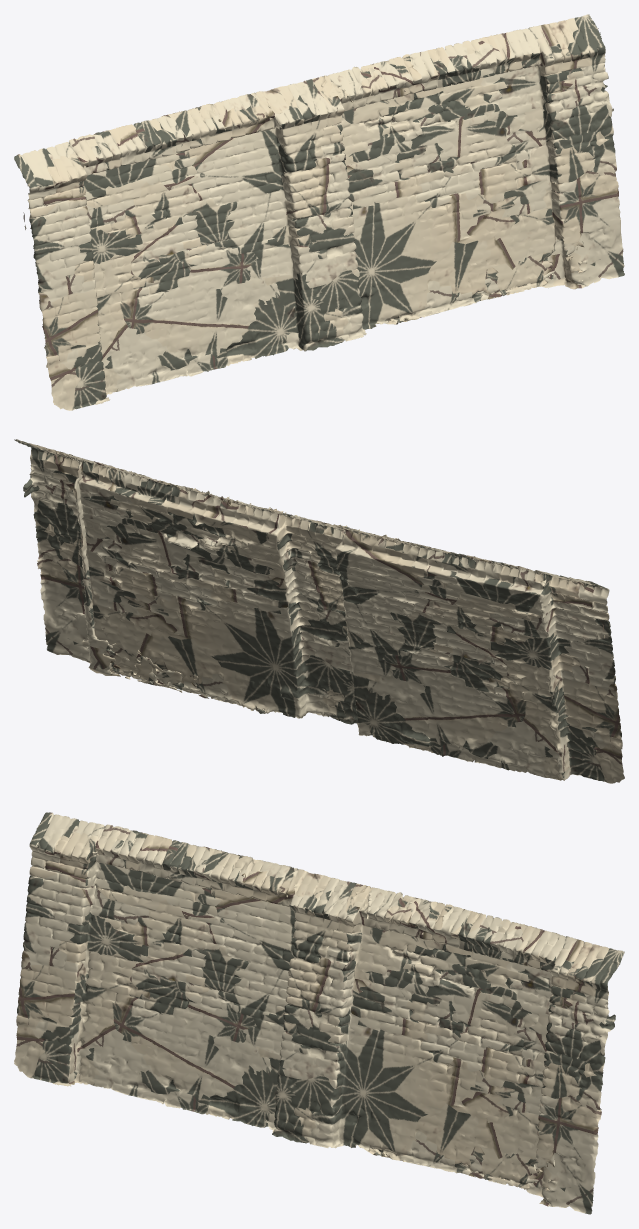
The model's file is parete.fbx.
3 views of the same model, one above another, from view 1: azimuth 30°, elevation 25°; view 2: azimuth 150°, elevation 25°; view 3: azimuth 330°, elevation 25° (orthographic).
Visible parts, largest first — view 1: Church Wall 50K; view 2: Church Wall 50K; view 3: Church Wall 50K.
Boxes of the visible parts, x1=… form: Church Wall 50K: x1=14, y1=14, x2=624, y2=410; Church Wall 50K: x1=14, y1=439, x2=624, y2=783; Church Wall 50K: x1=14, y1=812, x2=624, y2=1214.
Bounding box in the file's own units: 524 × 207 × 70.82.
